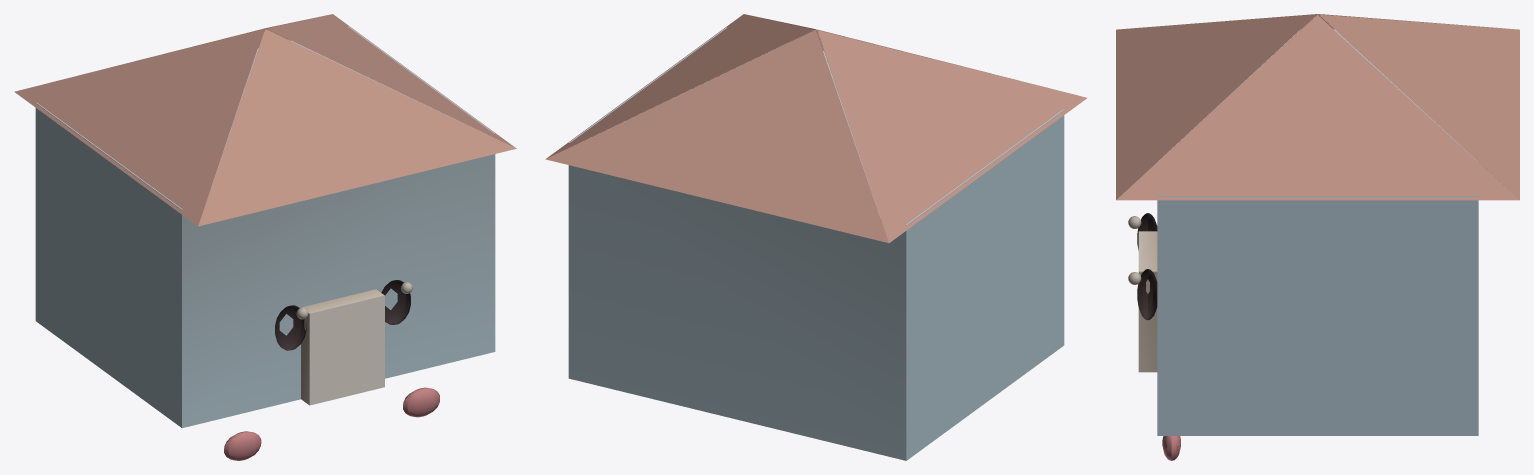
3 views of the same model, side by side, from view 1: azimuth 30°, elevation 25°; view 2: azimuth 150°, elevation 25°; view 3: azimuth 270°, elevation 25° (orthographic). The views are drawn at different scales.
Parts seen in each view (by area): view 1: pet_p33d2c495; view 2: pet_p33d2c495; view 3: pet_p33d2c495.
Boxes of the visible parts, left/top/right/bottom form: pet_p33d2c495: left=14, top=14, right=516, bottom=460; pet_p33d2c495: left=545, top=14, right=1086, bottom=460; pet_p33d2c495: left=1116, top=14, right=1519, bottom=460.
Bounding box in the file's own units: 0.4277 × 0.4624 × 0.4277.
